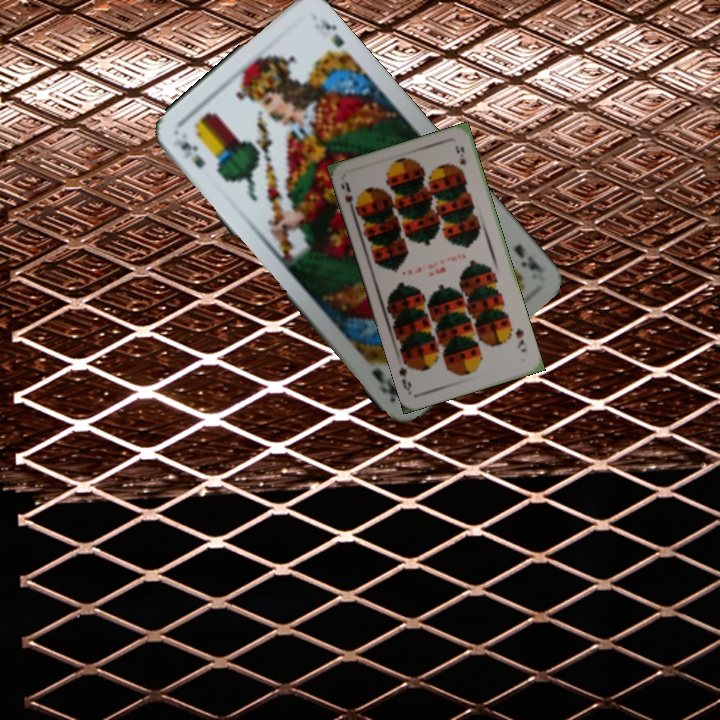EK: (509, 240, 546, 277), (174, 137, 208, 171)
S9: (337, 178, 363, 216), (511, 324, 529, 355)
